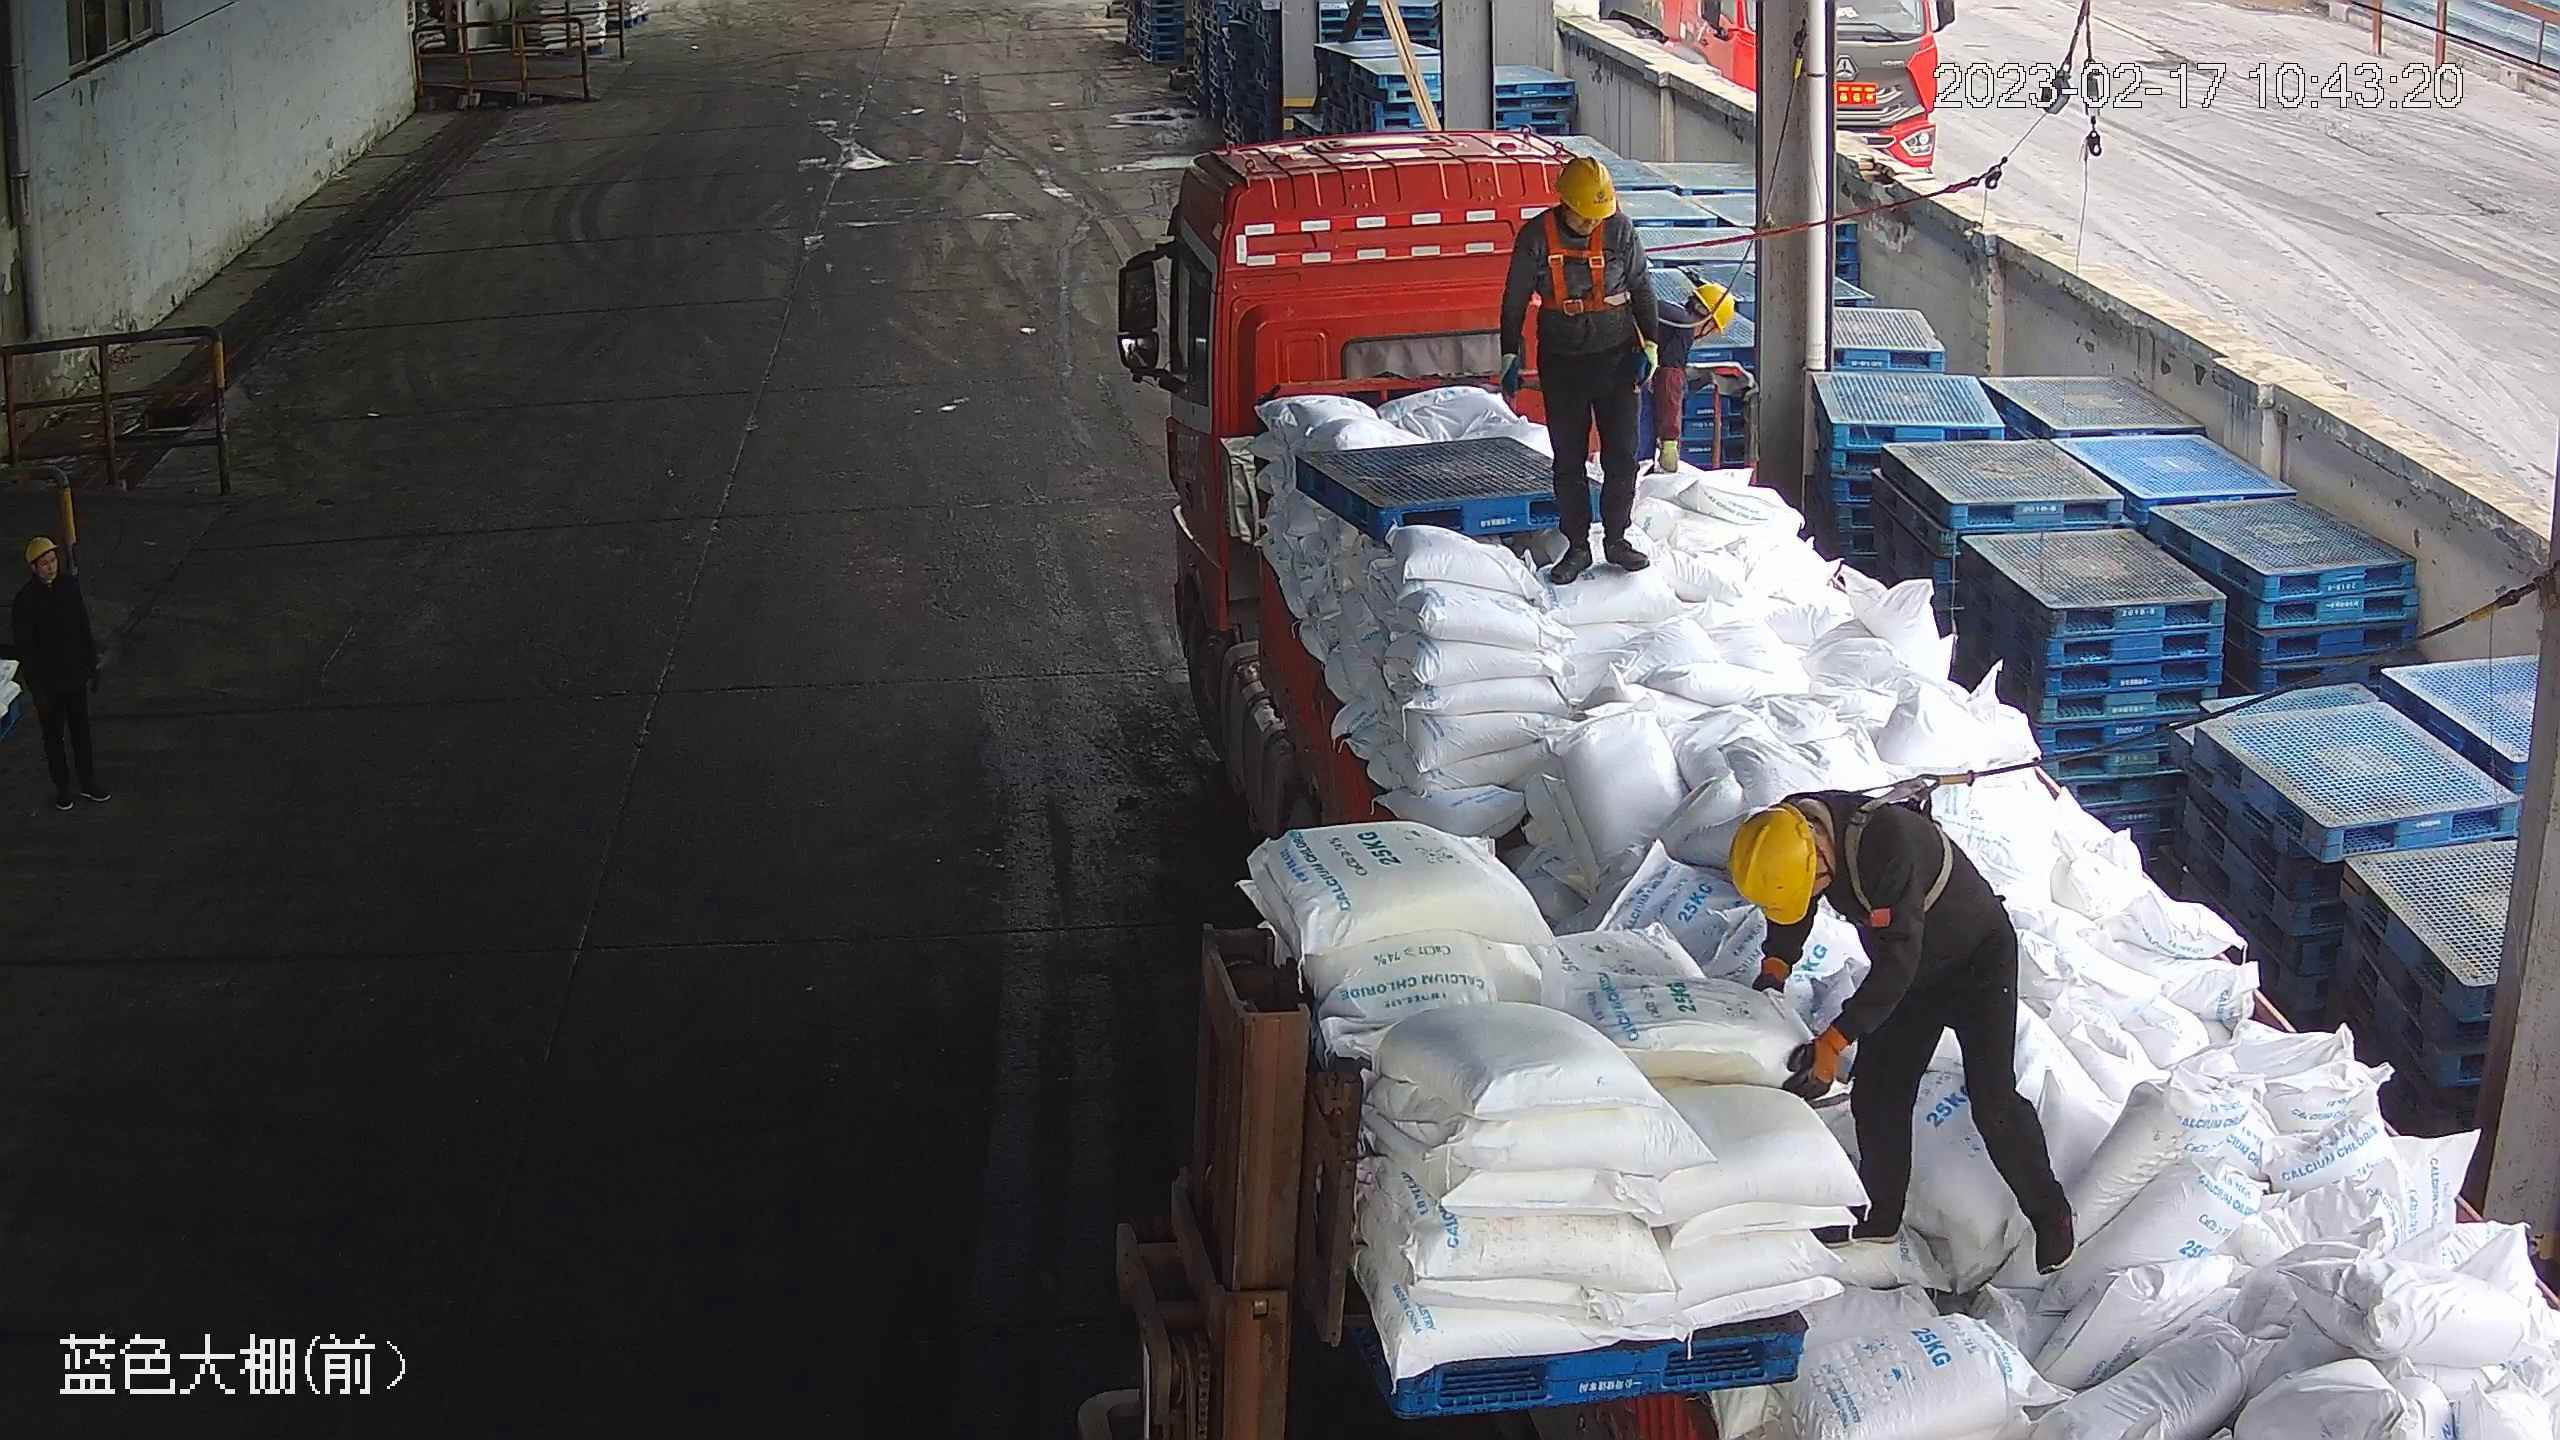belt: (1829, 767, 1964, 926), (1536, 209, 1635, 319)
head: (1720, 786, 1916, 946), (1511, 152, 1643, 280), (1635, 273, 1735, 365), (9, 533, 88, 618)
helmet: (1727, 799, 1824, 924), (1554, 153, 1619, 219), (1689, 278, 1734, 338), (24, 535, 60, 563)
people: (1729, 780, 2082, 1277), (1499, 153, 1694, 585), (6, 532, 113, 812)
truck: (1149, 112, 2545, 1440)
